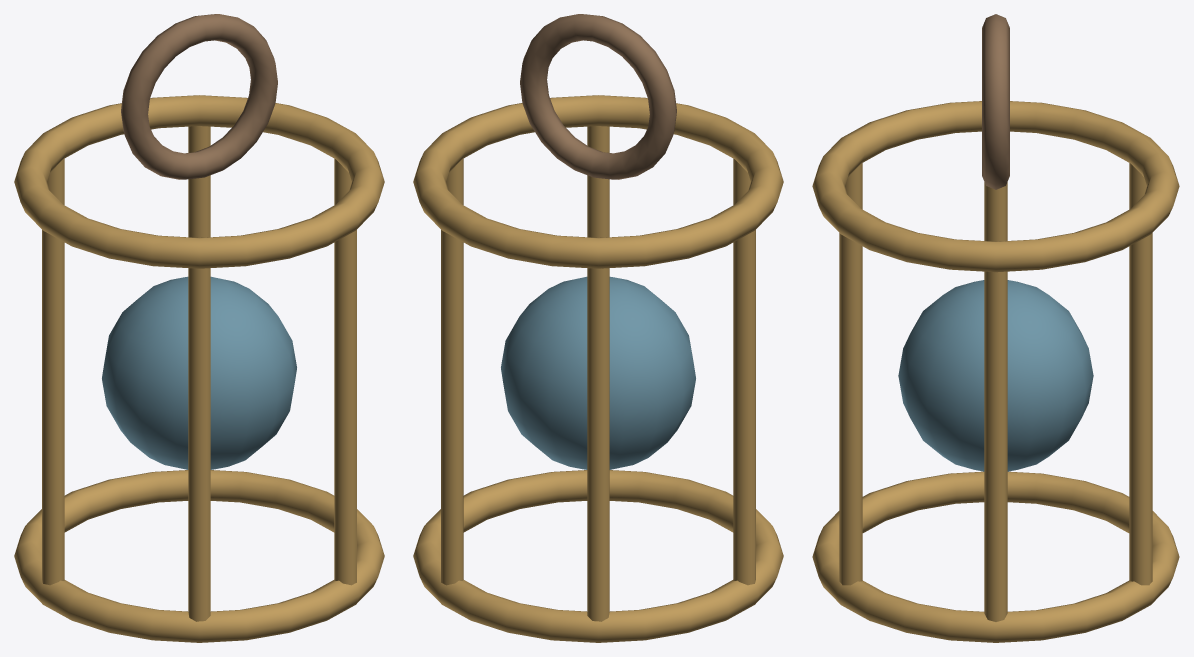
3 renders of one model, left to right at view 1: azimuth 30°, elevation 25°; view 2: azimuth 150°, elevation 25°; view 3: azimuth 270°, elevation 25°, orthographic.
Bounding box in the file's own units: 0.79 × 1.3 × 0.79.
